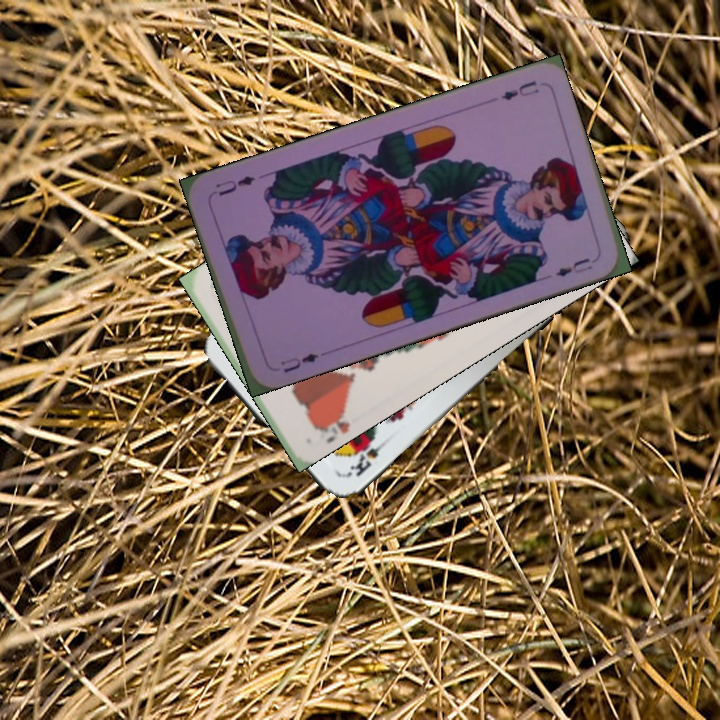EU: (276, 349, 322, 376), (497, 76, 542, 103)
HO: (310, 402, 353, 445)
SK: (342, 435, 392, 480)
